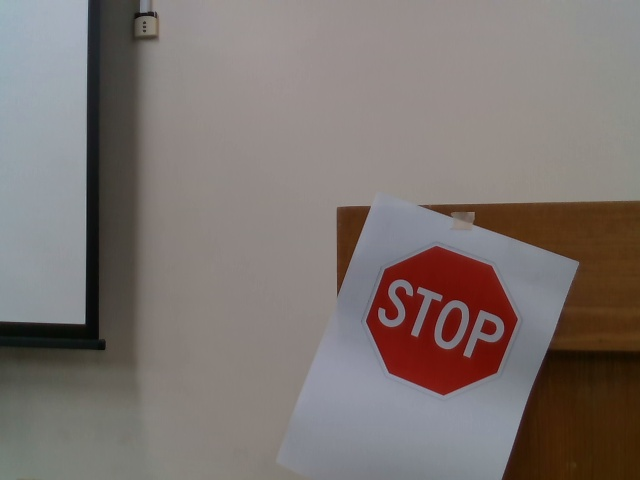stop: (362, 242, 522, 398)
